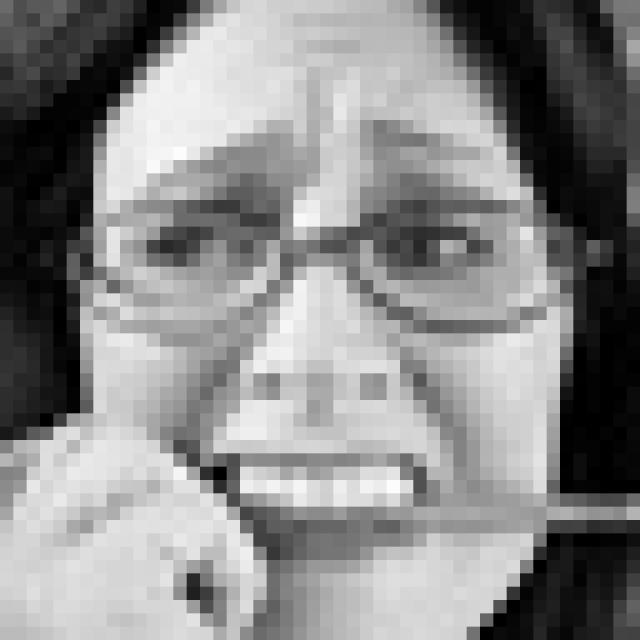fear: (118, 82, 538, 568)
